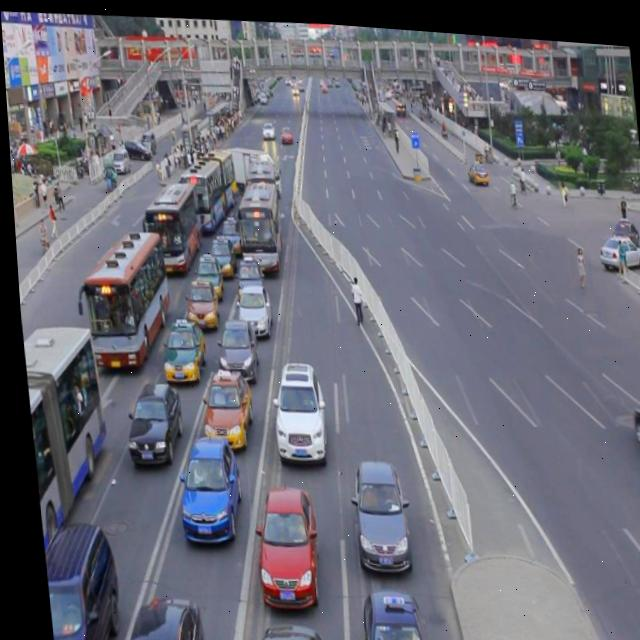bus: (218, 141, 279, 196)
car: (34, 520, 116, 640), (245, 483, 315, 604), (168, 428, 239, 543), (339, 452, 406, 569), (263, 355, 323, 456), (117, 377, 179, 465), (102, 587, 198, 640), (345, 579, 427, 640), (192, 362, 249, 448), (210, 311, 256, 379), (156, 314, 202, 380), (236, 612, 317, 640), (179, 272, 217, 327), (230, 281, 268, 334), (591, 221, 640, 259), (188, 248, 221, 297), (229, 249, 263, 294), (622, 384, 640, 454), (206, 232, 233, 273), (215, 210, 240, 251), (463, 150, 486, 178)
van: (17, 322, 115, 610), (67, 224, 170, 371), (135, 175, 203, 271), (172, 140, 238, 230), (229, 175, 283, 273), (240, 155, 279, 215)
